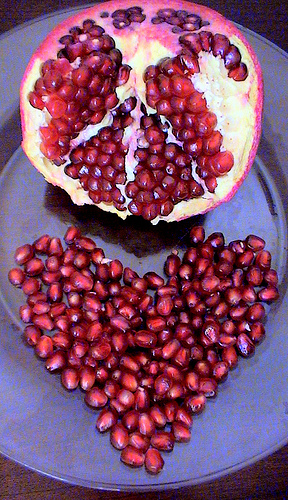pomogranate: (20, 0, 260, 223), (145, 445, 164, 476), (95, 409, 115, 432)
